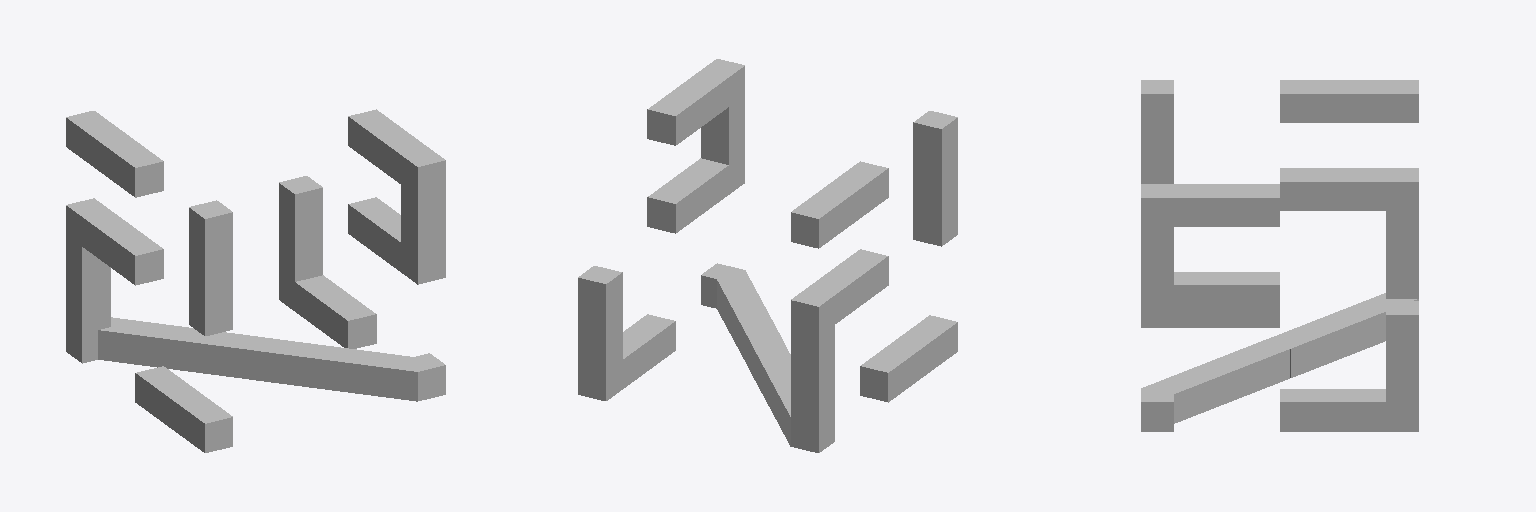
3 views of the same model, side by side, from view 1: azimuth 30°, elevation 25°; view 2: azimuth 150°, elevation 25°; view 3: azimuth 270°, elevation 25° (orthographic).
Parts seen in each view (by area): view 1: 1막대_Cube.017; view 2: 1막대_Cube.017; view 3: 1막대_Cube.017.
Part boxes in pixels (left/top/right/bottom): 1막대_Cube.017: left=66, top=109, right=445, bottom=452; 1막대_Cube.017: left=578, top=59, right=957, bottom=452; 1막대_Cube.017: left=1141, top=80, right=1418, bottom=431.
Size of the model in its own units: 3.4 by 3.16 by 3.4.